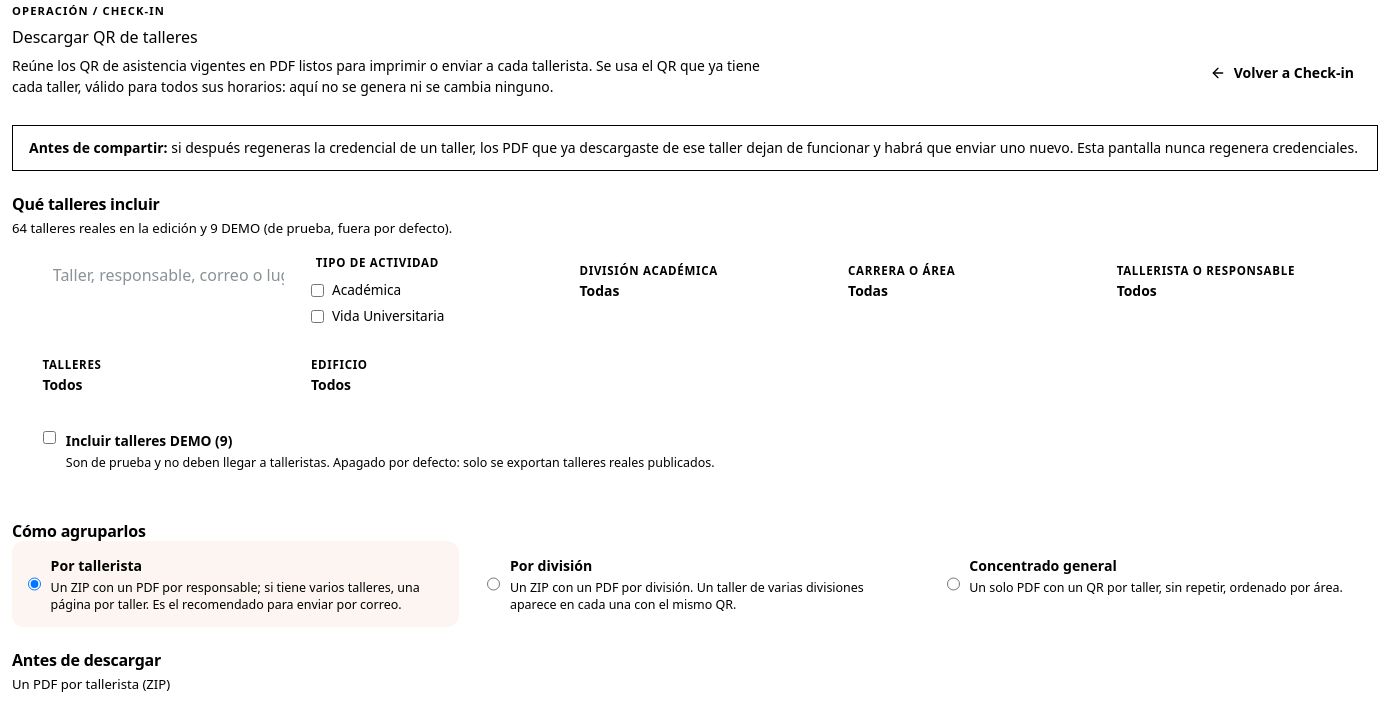
Test case: pantalla de descarga de QR › incluir DEMO los marca y cambia los totales
Click the checkbox labelled "Incluir talleres DEMO". click: (50, 437)
box: [43,431,56,444]
(page scrolled)
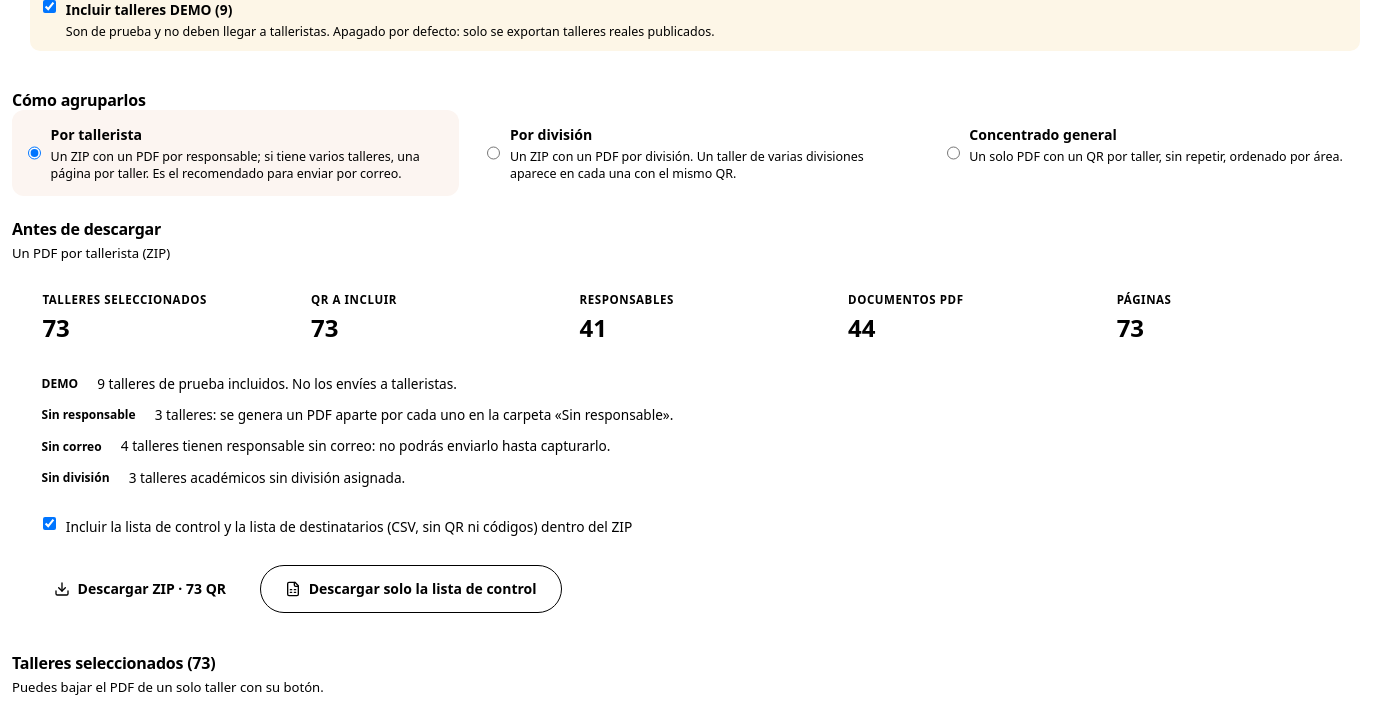
Result: the list item "9 talleres de prueba incluidos" is shown at [97,374,285,393]
